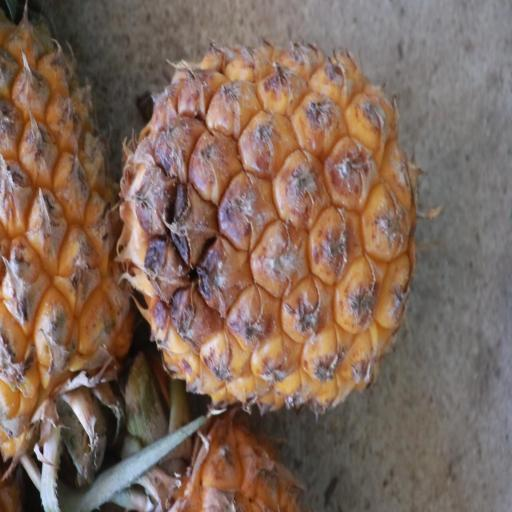Pineapple - v8 v1: (114, 40, 417, 414), (0, 4, 134, 511)
